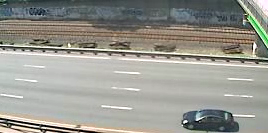car: (181, 109, 237, 131)
